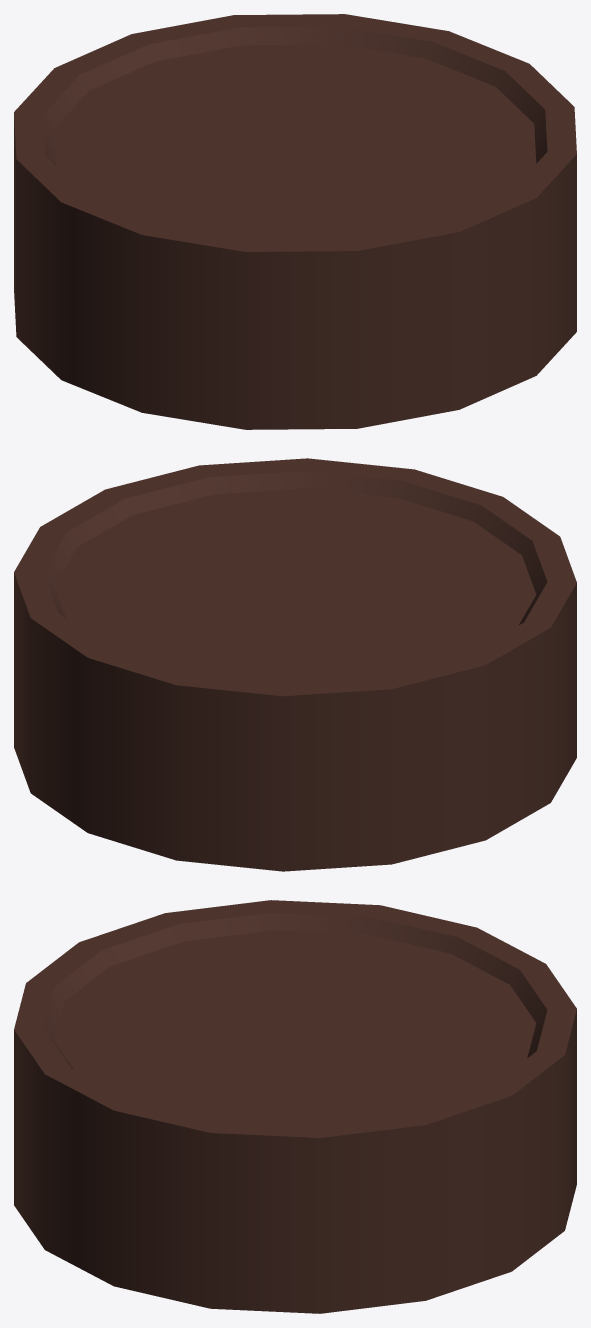
The model's file is roundmanhole003.fbx.
3 views of the same model, one above another, from view 1: azimuth 30°, elevation 25°; view 2: azimuth 150°, elevation 25°; view 3: azimuth 270°, elevation 25° (orthographic).
Parts seen in each view (by area): view 1: manhole.001; view 2: manhole.001; view 3: manhole.001.
Part boxes in pixels (box(x1,y1,x2,y2)): manhole.001: box(14, 14, 576, 429); manhole.001: box(14, 458, 576, 871); manhole.001: box(14, 900, 576, 1313).
Bounding box in the file's own units: 19.92 × 6.87 × 19.92.
